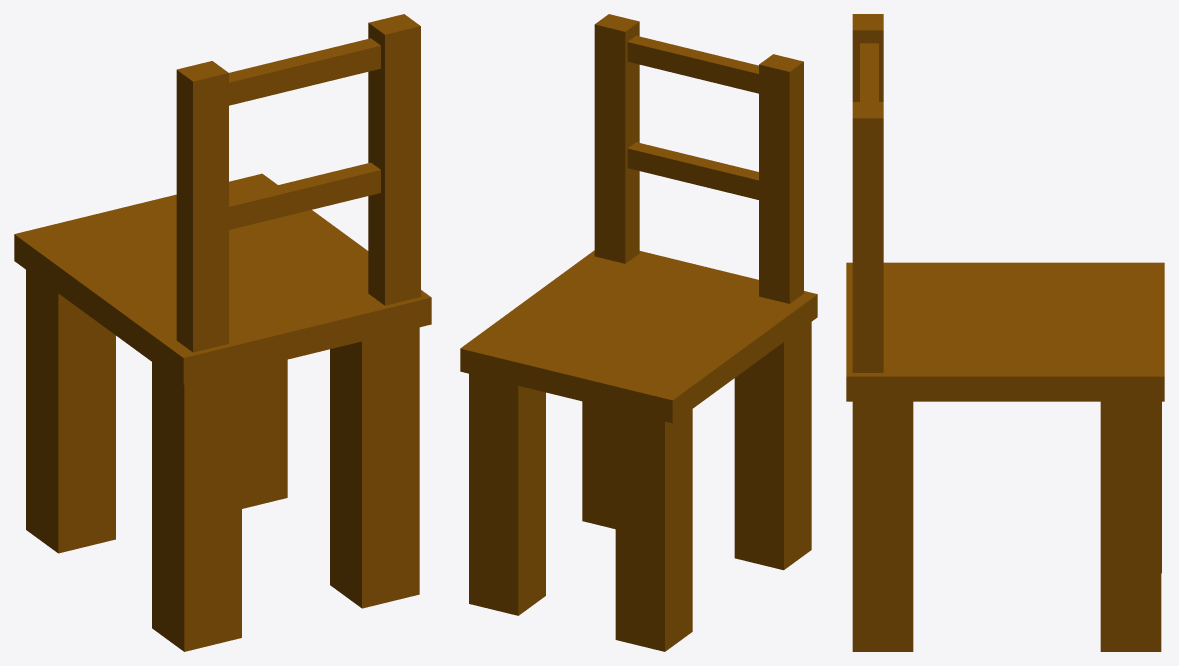
Rendered from Chair.fbx.
The picture shows the model from 3 angles, left to right: view 1: azimuth 30°, elevation 25°; view 2: azimuth 150°, elevation 25°; view 3: azimuth 270°, elevation 25°; orthographic projection. The views are drawn at different scales.
Parts seen in each view (by area): view 1: Cube; view 2: Cube; view 3: Cube.
Part boxes in pixels (bbox=[...]): Cube: bbox=[14, 14, 431, 651]; Cube: bbox=[460, 14, 817, 651]; Cube: bbox=[846, 14, 1164, 651].
Size of the model in its own units: 166 by 362 by 196.
